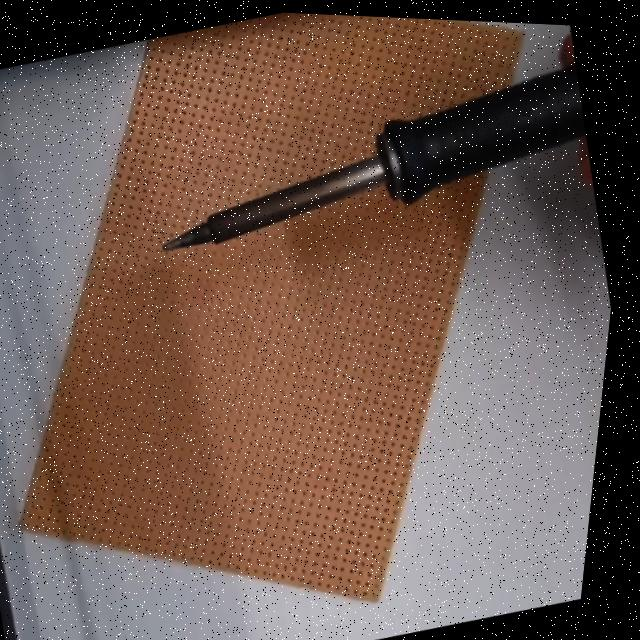soldering_iron: (131, 40, 607, 292)
